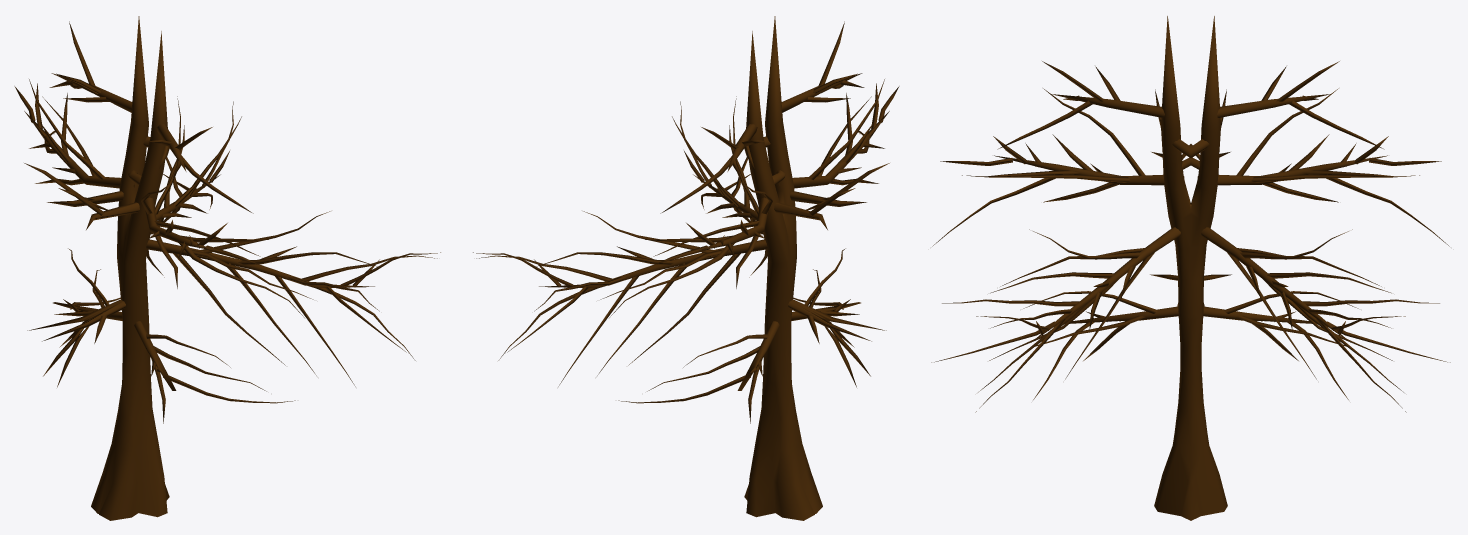
The model's file is Tree2.fbx.
The picture shows the model from 3 angles, left to right: view 1: azimuth 30°, elevation 25°; view 2: azimuth 150°, elevation 25°; view 3: azimuth 270°, elevation 25°; orthographic projection. The views are drawn at different scales.
Visible parts, largest first — view 1: Foliage002; view 2: Foliage002; view 3: Foliage002.
Boxes of the visible parts, x1,y1,x2,y2 form: Foliage002: (14,16,440,520); Foliage002: (473,16,899,520); Foliage002: (931,16,1450,520).
Size of the model in its own units: 193 by 287 by 275.
